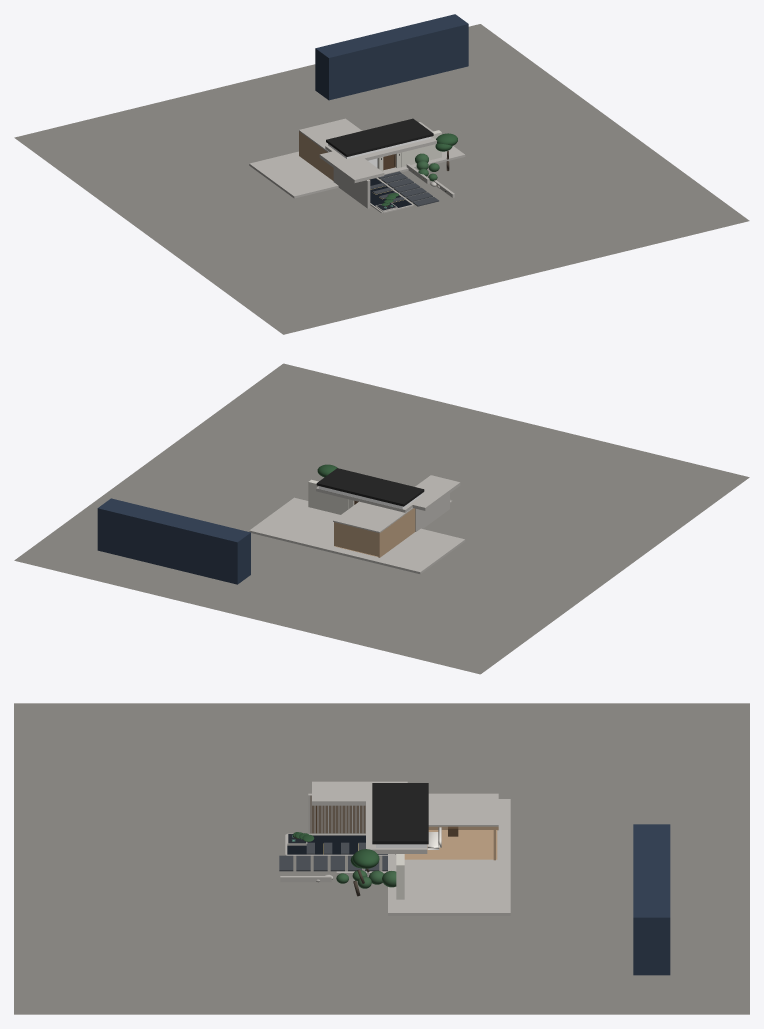
The model's file is courtyard_master.glb.
3 renders of one model, top to bottom at view 1: azimuth 30°, elevation 25°; view 2: azimuth 150°, elevation 25°; view 3: azimuth 270°, elevation 25°, orthographic. The views are drawn at different scales.
Parts seen in each view (by area): view 1: Ground_Gravel_Base, Mountain_Silhouette, House_Foundation_Slab, Roof_Upper_Dark_Coping, Roof_Concrete_Left_Wing, Interior_Ceiling_Slab, Interior_Left_Wall, Walnut_Screen_Backing, Roof_Concrete_Cantilever, Right_Wing_Limestone_Wall; view 2: Ground_Gravel_Base, Mountain_Silhouette, House_Foundation_Slab, Roof_Upper_Dark_Coping, Interior_Ceiling_Slab, Interior_Back_Wall, Interior_Left_Wall, Roof_Concrete_Left_Wing, Right_Wing_Limestone_Wall, Walnut_Screen_Backing; view 3: Ground_Gravel_Base, House_Foundation_Slab, Mountain_Silhouette, Roof_Upper_Dark_Coping, Interior_Ceiling_Slab, Interior_Oak_Floor, Walnut_Screen_Backing, Roof_Concrete_Left_Wing, Reflecting_Pool_Water, Roof_Concrete_Cantilever.
Part boxes in pixels (x1,y1,x2,y2): Ground_Gravel_Base: [14, 24, 749, 334]; Mountain_Silhouette: [315, 14, 468, 100]; House_Foundation_Slab: [249, 122, 465, 198]; Roof_Upper_Dark_Coping: [326, 118, 433, 156]; Roof_Concrete_Left_Wing: [319, 150, 384, 182]; Interior_Ceiling_Slab: [299, 118, 361, 152]; Interior_Left_Wall: [299, 131, 333, 180]; Walnut_Screen_Backing: [333, 168, 370, 208]; Roof_Concrete_Cantilever: [325, 136, 436, 162]; Right_Wing_Limestone_Wall: [401, 130, 441, 167]; Ground_Gravel_Base: [14, 363, 749, 674]; Mountain_Silhouette: [97, 498, 250, 584]; House_Foundation_Slab: [249, 497, 465, 574]; Roof_Upper_Dark_Coping: [316, 468, 424, 506]; Interior_Ceiling_Slab: [333, 501, 413, 533]; Interior_Back_Wall: [334, 522, 381, 556]; Interior_Left_Wall: [378, 508, 415, 557]; Roof_Concrete_Left_Wing: [410, 475, 460, 510]; Right_Wing_Limestone_Wall: [308, 479, 348, 514]; Walnut_Screen_Backing: [415, 493, 449, 531]; Ground_Gravel_Base: [14, 703, 749, 1014]; House_Foundation_Slab: [388, 799, 510, 915]; Mountain_Silhouette: [633, 824, 670, 975]; Roof_Upper_Dark_Coping: [372, 783, 428, 844]; Interior_Ceiling_Slab: [428, 793, 498, 826]; Interior_Oak_Floor: [404, 830, 497, 859]; Walnut_Screen_Backing: [308, 793, 365, 832]; Roof_Concrete_Left_Wing: [312, 781, 407, 805]; Reflecting_Pool_Water: [287, 835, 387, 854]; Roof_Concrete_Cantilever: [366, 790, 427, 853].
Size of the model in its own units: 60 by 5.62 by 60.
